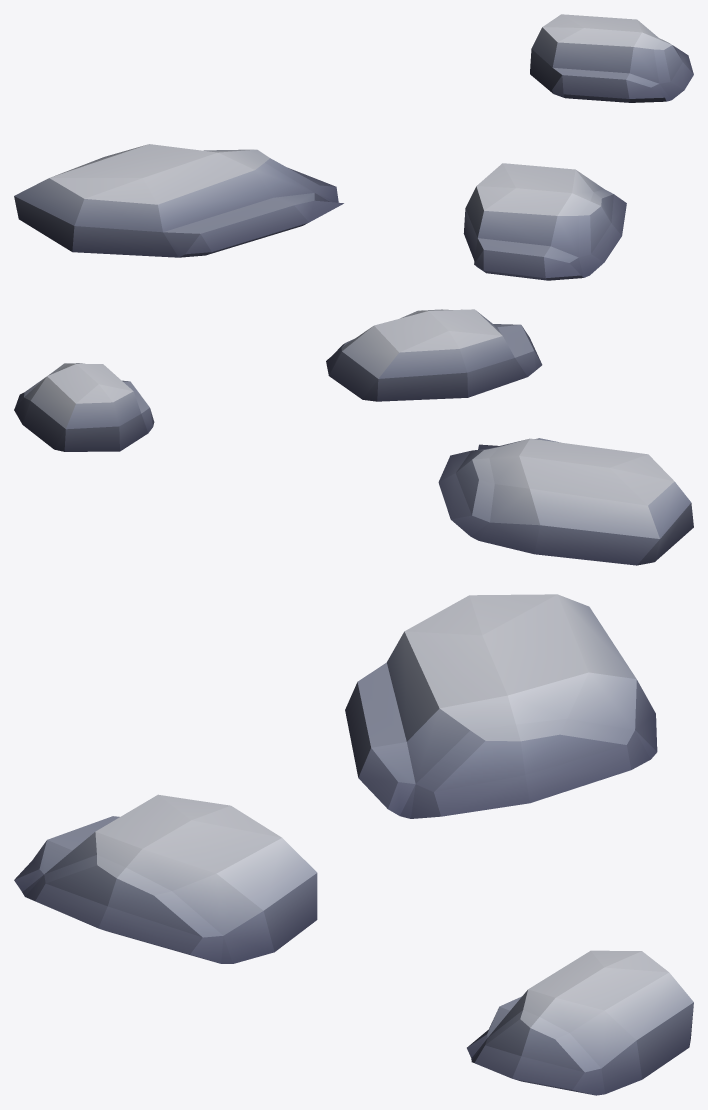
Rendered from TinyRock2.fbx.
3 renders of one model, top to bottom at view 1: azimuth 30°, elevation 25°; view 2: azimuth 150°, elevation 25°; view 3: azimuth 270°, elevation 25°, orthographic. The views are drawn at different scales.
Visible parts, largest first — view 1: TinyRock2; view 2: TinyRock2; view 3: TinyRock2.
Part boxes in pixels (x1=…): TinyRock2: x1=14, y1=14, x2=693, y2=280; TinyRock2: x1=14, y1=309, x2=693, y2=565; TinyRock2: x1=14, y1=594, x2=693, y2=1095.
Bounding box in the file's own units: 0.8002 × 0.0621 × 0.5022.
